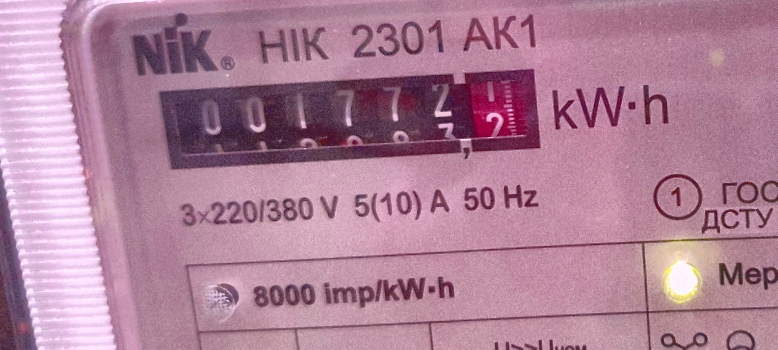0: (196, 95, 225, 136), (243, 93, 268, 133)
1: (292, 90, 310, 130), (483, 79, 497, 105)
2: (429, 82, 454, 119), (481, 109, 505, 138)
3: (436, 120, 458, 142)
7: (335, 87, 358, 129), (381, 84, 404, 123)
screen: (147, 57, 558, 181)
